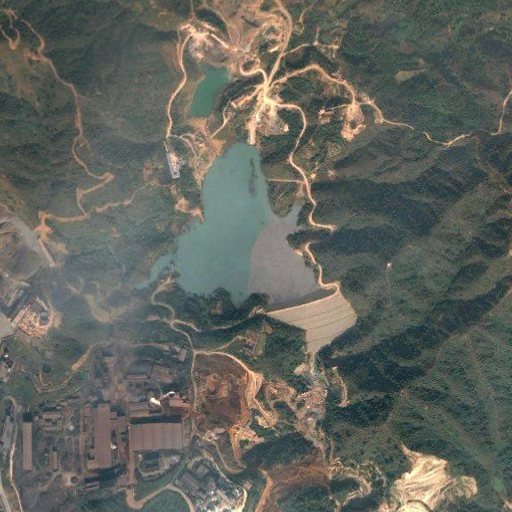tp: (137, 140, 358, 353)
